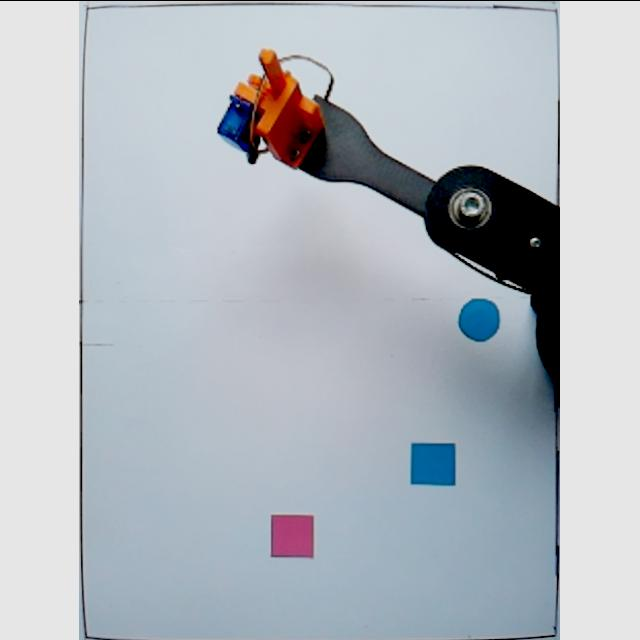blueCircle: (456, 294, 504, 342)
blueSquare: (410, 439, 458, 486)
pinkSquare: (269, 514, 317, 558)
